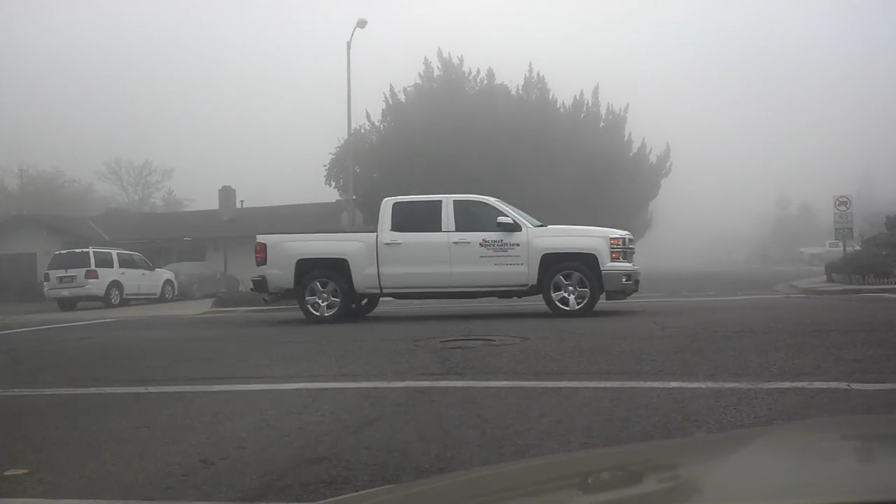car: (248, 193, 644, 321), (42, 244, 178, 310), (161, 261, 242, 298), (798, 239, 871, 266)
